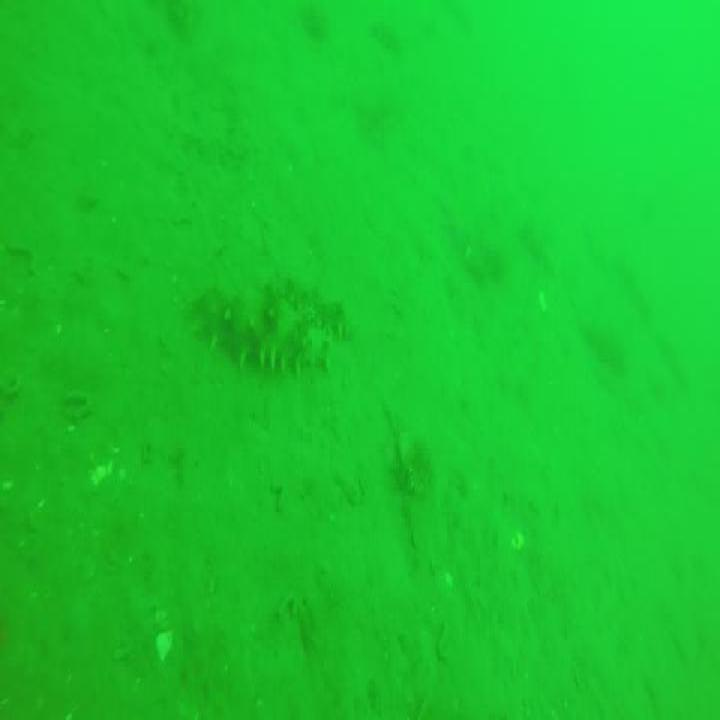holothurian: (201, 268, 347, 366)
